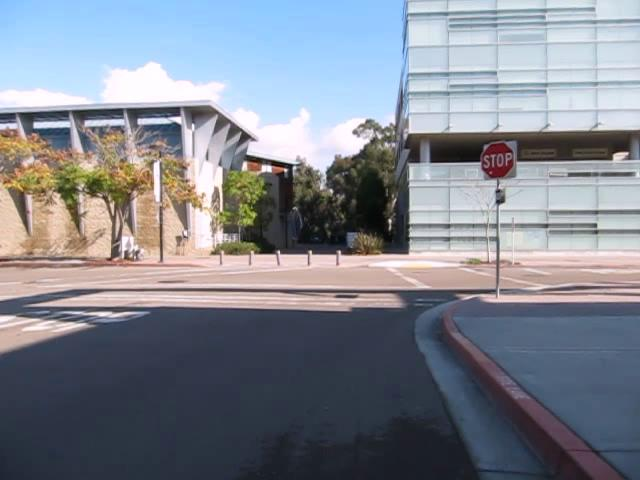stop: (480, 141, 515, 179)
